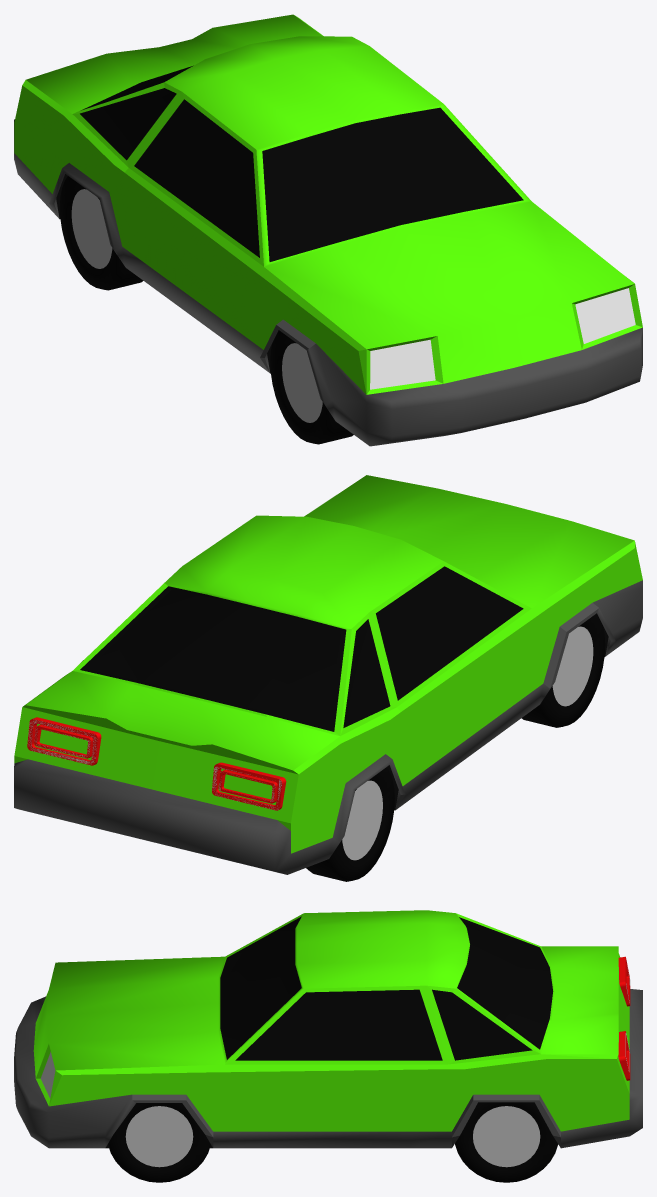
The model's file is Car.fbx.
3 renders of one model, top to bottom at view 1: azimuth 30°, elevation 25°; view 2: azimuth 150°, elevation 25°; view 3: azimuth 270°, elevation 25°, orthographic. The views are drawn at different scales.
Visible parts, largest first — view 1: Car; view 2: Car, TailLight, TailLightLit; view 3: Car, TailLight.
Part boxes in pixels (bbox=[...]): Car: bbox=[14, 14, 642, 446]; Car: bbox=[14, 475, 642, 881]; TailLight: bbox=[27, 717, 286, 810]; TailLightLit: bbox=[28, 719, 281, 809]; Car: bbox=[14, 910, 642, 1182]; TailLight: bbox=[618, 956, 630, 1080].
Bounding box in the file's own units: 210 × 159 × 478.
